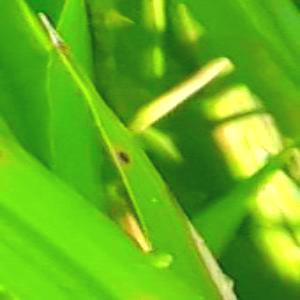0 BrownSpot: (112, 145, 138, 169)
